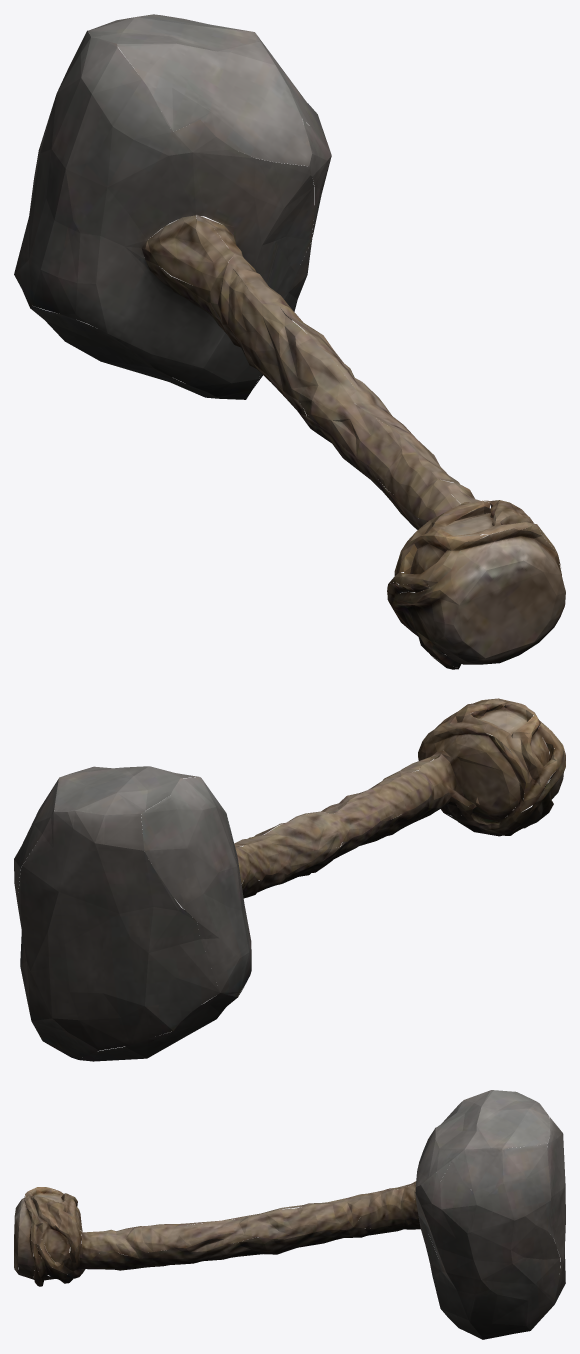
The model's file is hammer_big.glb.
3 views of the same model, one above another, from view 1: azimuth 30°, elevation 25°; view 2: azimuth 150°, elevation 25°; view 3: azimuth 270°, elevation 25° (orthographic). The views are drawn at different scales.
Visible parts, largest first — view 1: geometry_0; view 2: geometry_0; view 3: geometry_0.
Part boxes in pixels (bbox=[...]): geometry_0: bbox=[14, 14, 565, 669]; geometry_0: bbox=[14, 698, 565, 1061]; geometry_0: bbox=[14, 1090, 565, 1339].
Size of the model in its own units: 0.3487 by 0.4304 by 0.9963.
1 material, 1 textured.
